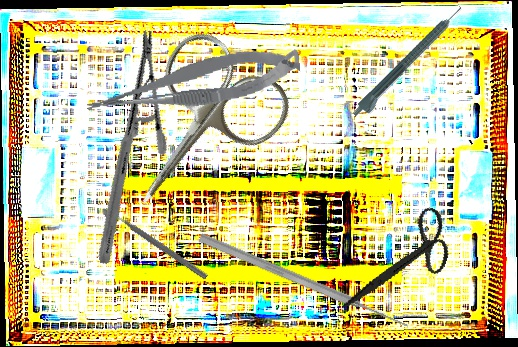Fixation Ring: (100, 197, 214, 283)
Handpiece: (350, 3, 470, 124)
Iris Scissors: (88, 21, 302, 243), (342, 191, 462, 334)
Micro Scissor: (82, 44, 304, 120)
Needle Holder: (36, 28, 216, 266)
Pusher: (197, 231, 412, 333)
